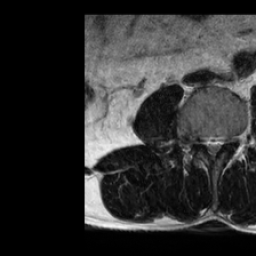CCS_normal: (208, 127, 216, 166)
LFS_severe_stenosis: (224, 127, 232, 150)
LLS_stenosis: (216, 127, 224, 157)
RFS_severe_stenosis: (193, 126, 201, 154)
RLS_normal: (201, 127, 208, 154)
